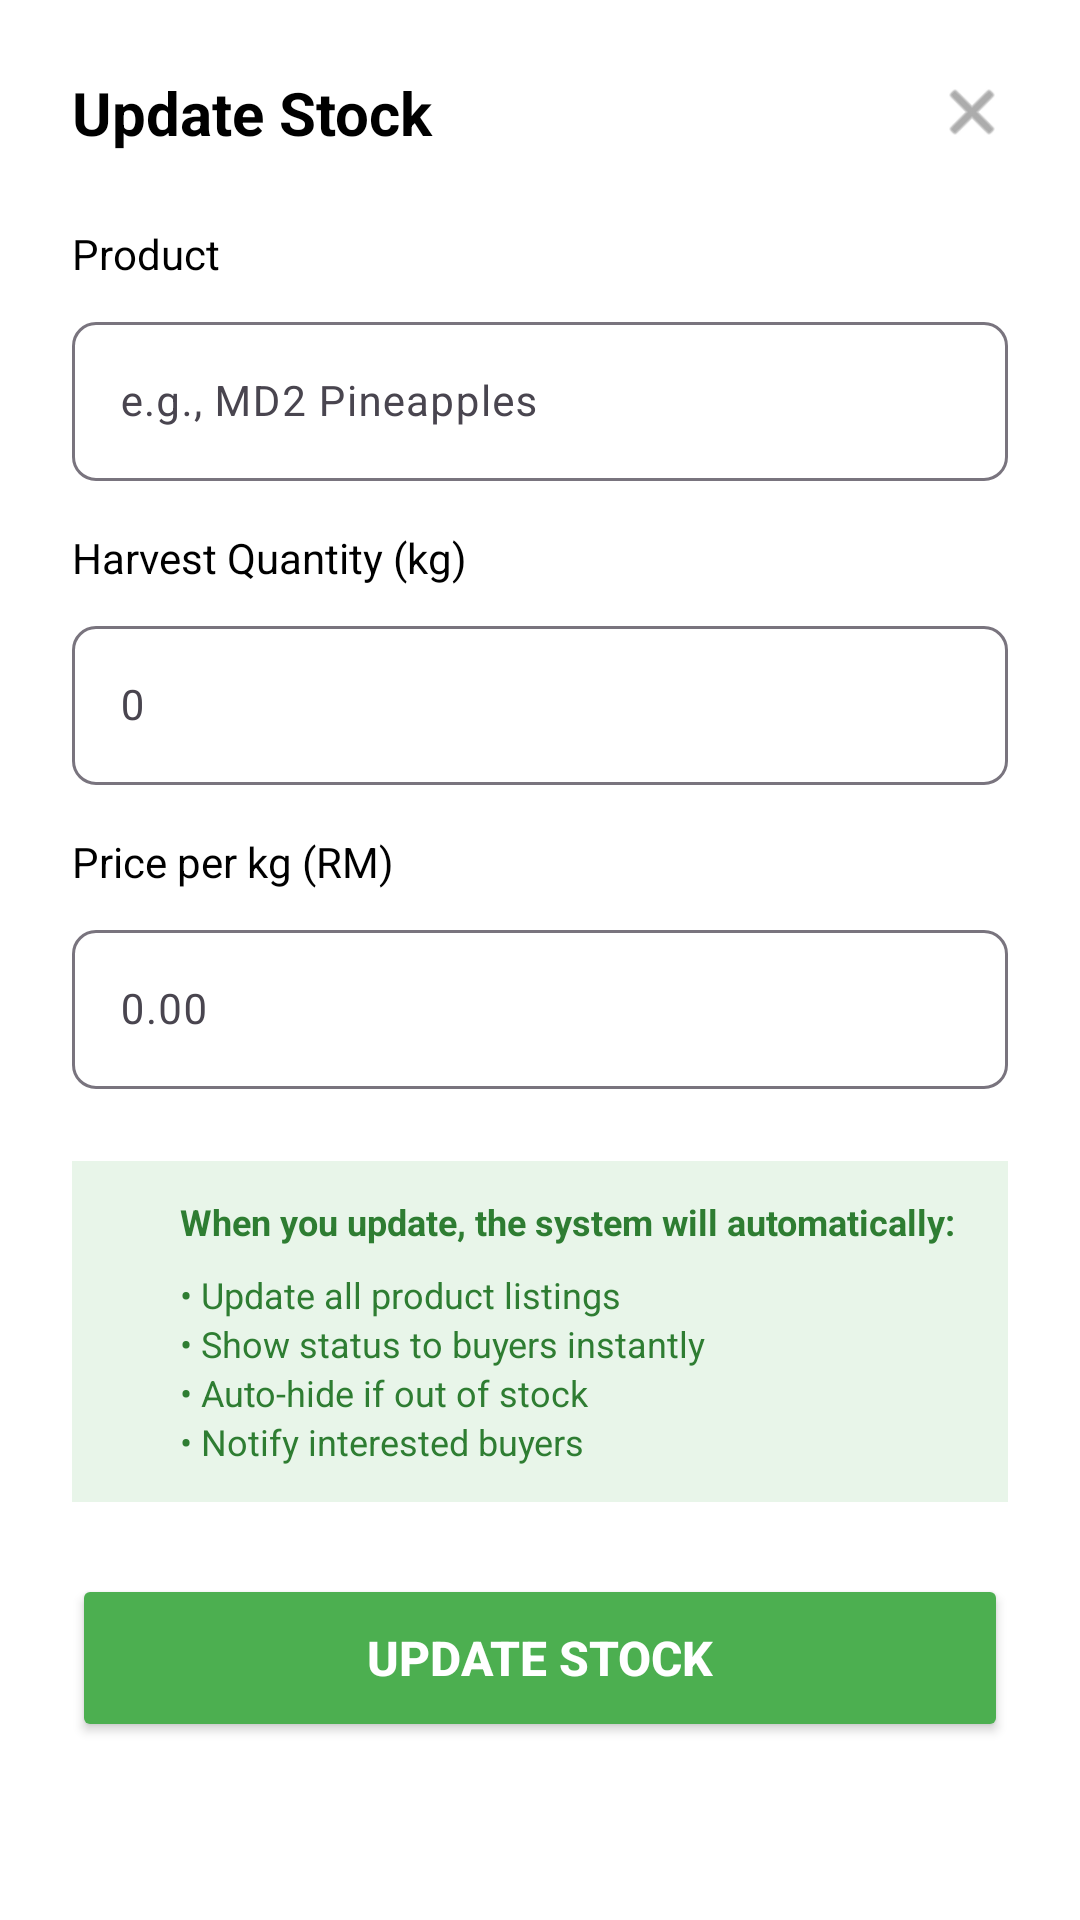

Screen size 1080px×1920px. Icon name, then its box in pixels as Rect(x1, y1, x2, y2):
Close: Rect(950, 90, 994, 134)
